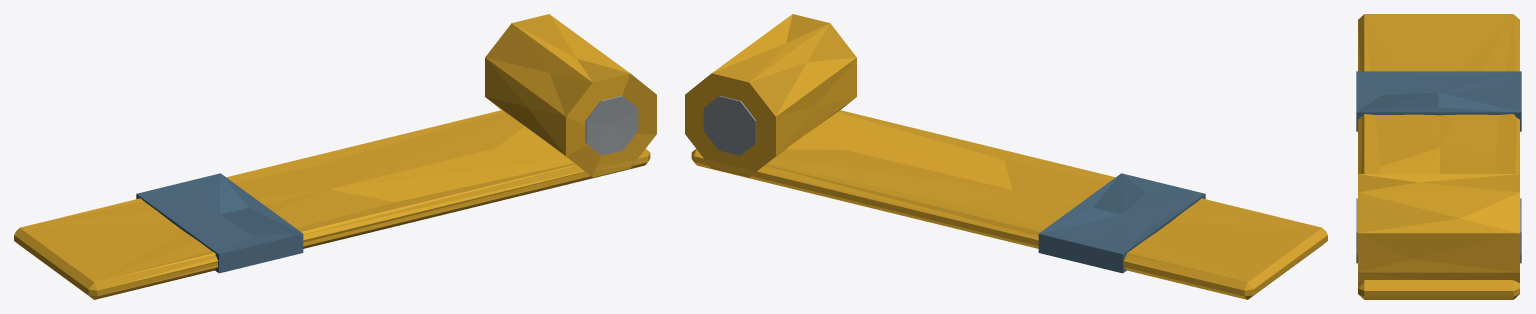
The model's file is splint_gotovaya_idle.glb.
3 views of the same model, side by side, from view 1: azimuth 30°, elevation 25°; view 2: azimuth 150°, elevation 25°; view 3: azimuth 270°, elevation 25° (orthographic).
Visible parts, largest first — view 1: splint_gotovaya_idle; view 2: splint_gotovaya_idle; view 3: splint_gotovaya_idle.
Boxes of the visible parts, x1,y1,x2,y2 form: splint_gotovaya_idle: (14, 14, 656, 299); splint_gotovaya_idle: (685, 14, 1327, 299); splint_gotovaya_idle: (1356, 14, 1521, 299).
Size of the model in its own units: 0.4023 by 0.0673 by 0.102.
Materials: 1 (1 with a texture image).
